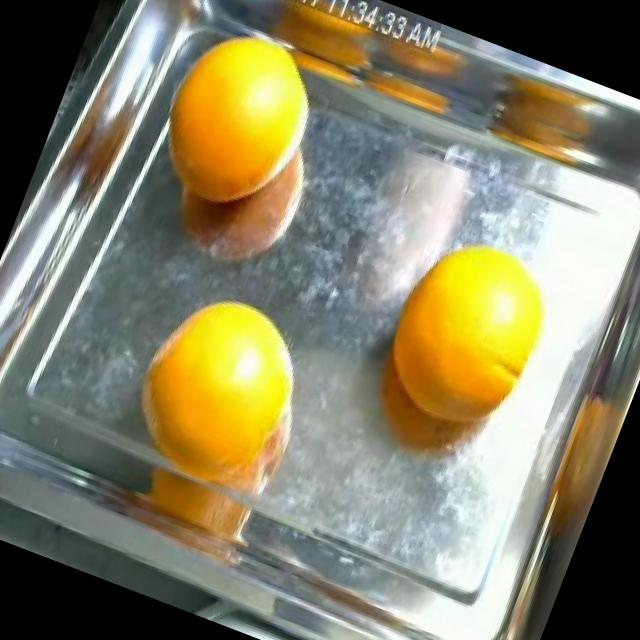Fruit: (102, 262, 342, 516), (134, 0, 342, 242), (376, 207, 586, 418)
